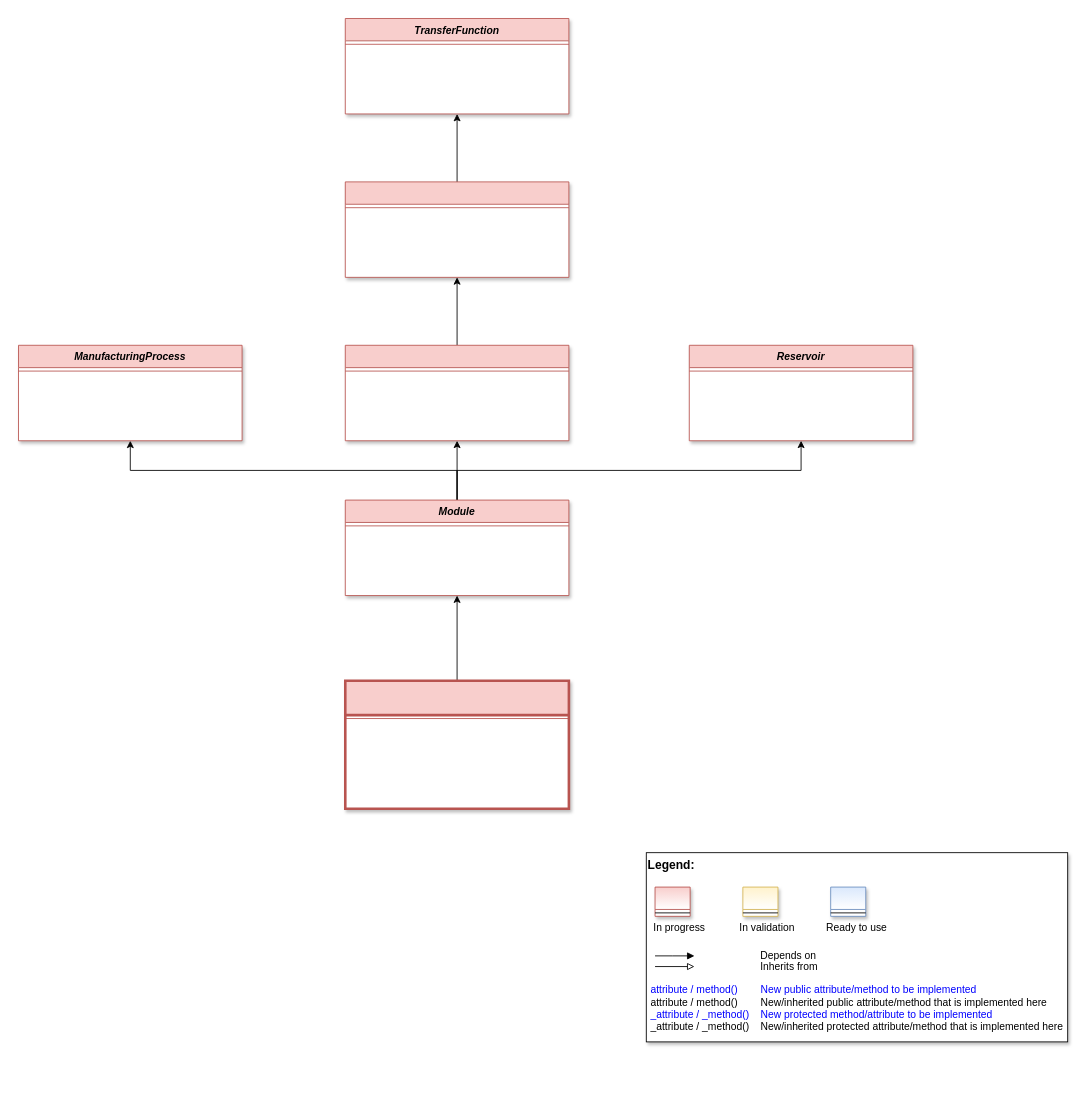
This 1088x1111 diagram has some shape labels left out. The centre of each missing label's shape, as x and y in pixels:
"Actuator" goes at (457,394).
"Process" goes at (457,230).
"Sim_MPPS ( Environment )" goes at (457,746).
